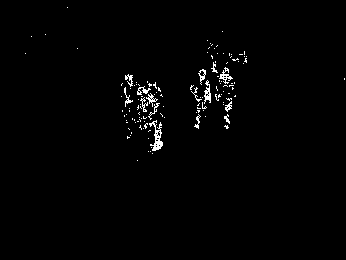person: (135, 79, 163, 152), (215, 66, 238, 131), (117, 75, 139, 136), (190, 69, 212, 130)
